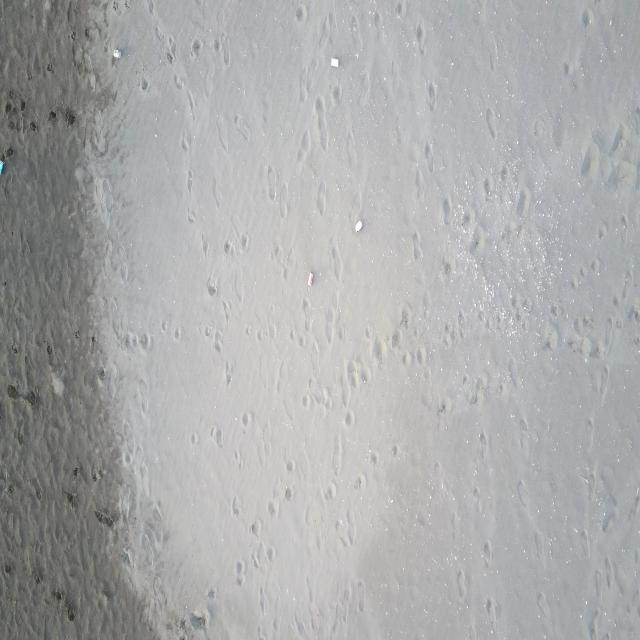Garbage: (329, 57, 339, 67), (355, 220, 362, 232), (111, 48, 119, 57), (307, 272, 312, 286), (0, 160, 3, 173)
